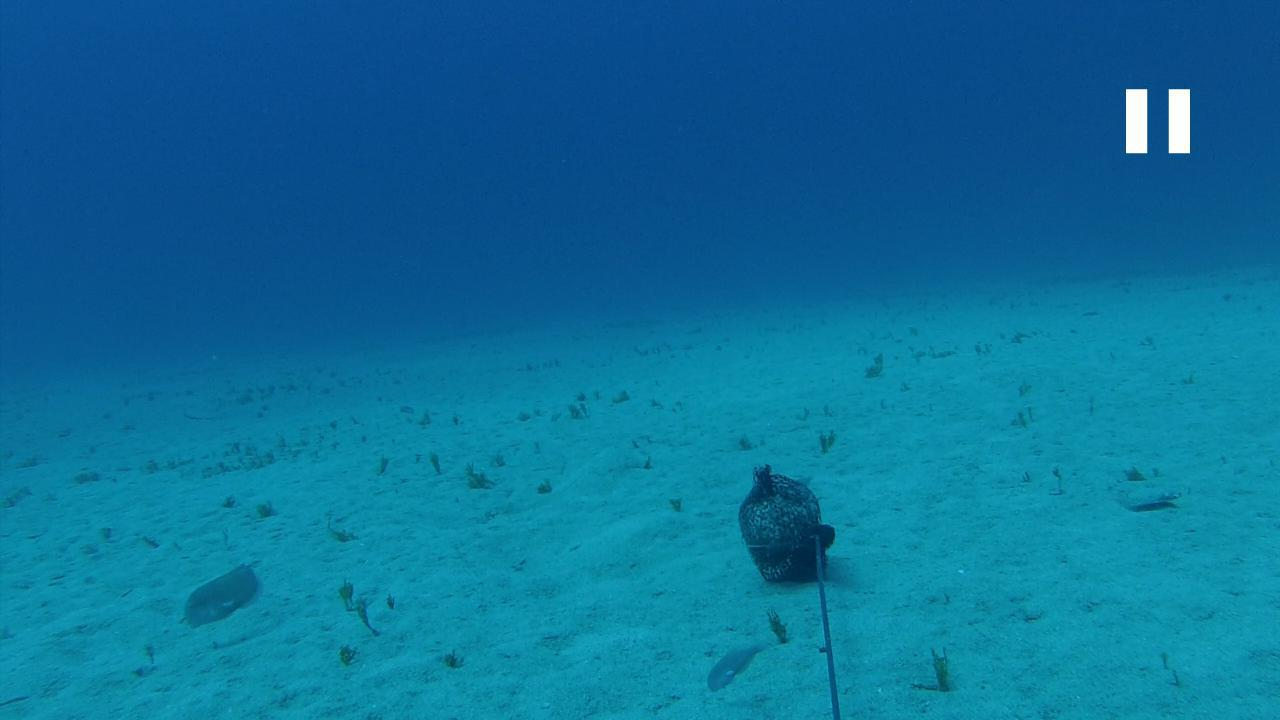bothus: (1109, 485, 1185, 514)
raor: (178, 552, 269, 627), (705, 630, 775, 692)
